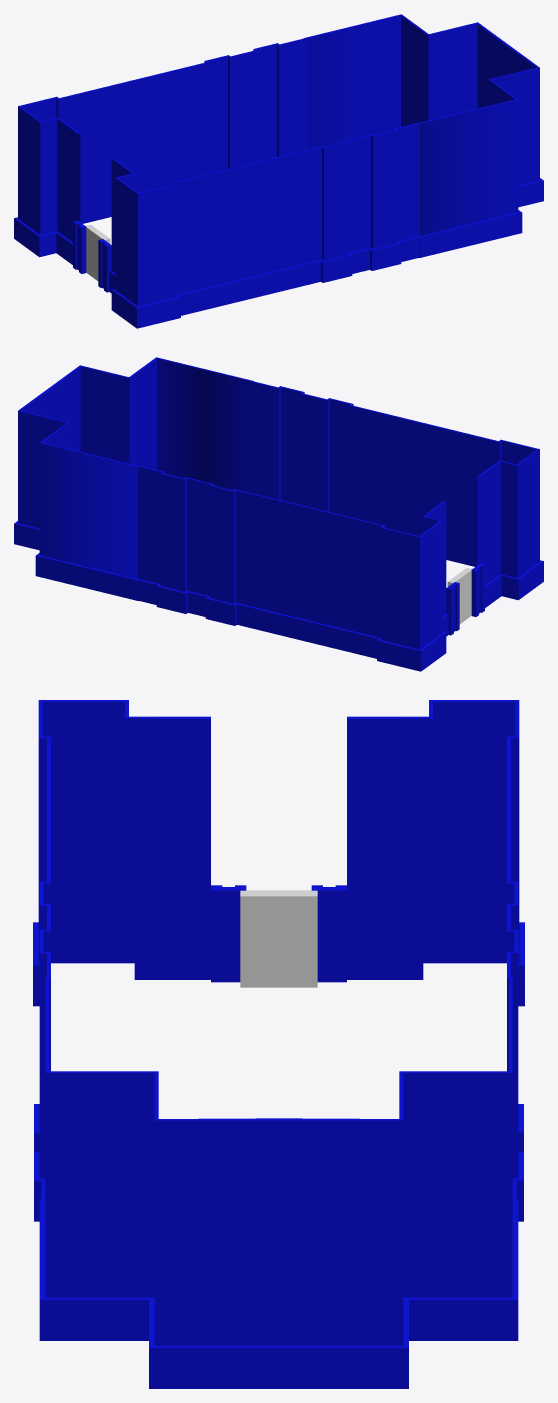
Rendered from churchEx_collisionSetup.fbx.
3 renders of one model, top to bottom at view 1: azimuth 30°, elevation 25°; view 2: azimuth 150°, elevation 25°; view 3: azimuth 270°, elevation 25°, orthographic. The views are drawn at different scales.
Visible parts, largest first — view 1: collisionCube.204, collisionCube.213, collisionCube.187, collisionCube.196, collisionCube.186, collisionCube.202, collisionCube.172, collisionCube.219, collisionCube.216, collisionCube.193, collisionCube.210, collisionCube.206 (+26 smaller); view 2: collisionCube.213, collisionCube.204, collisionCube.196, collisionCube.187, collisionCube.212, collisionCube.193, collisionCube.226, collisionCube.211, collisionCube.207, collisionCube.202, collisionCube.218, collisionCube.215 (+26 smaller); view 3: collisionCube.209, collisionCube.208, collisionCube.217, collisionCube.167, collisionCube.195, collisionCube.189, collisionCube.198, collisionCube.179, collisionCube.238, collisionCube.178, collisionCube.220, collisionCube.180 (+9 smaller).
Part boxes in pixels (bbox=[...]): collisionCube.204: bbox=[173, 146, 322, 294]; collisionCube.213: bbox=[58, 62, 208, 206]; collisionCube.187: bbox=[420, 99, 518, 235]; collisionCube.196: bbox=[303, 14, 401, 149]; collisionCube.186: bbox=[138, 184, 177, 306]; collisionCube.202: bbox=[428, 22, 477, 120]; collisionCube.172: bbox=[177, 259, 321, 315]; collisionCube.219: bbox=[279, 38, 306, 156]; collisionCube.216: bbox=[230, 50, 257, 168]; collisionCube.193: bbox=[489, 67, 539, 185]; collisionCube.210: bbox=[373, 130, 397, 248]; collisionCube.206: bbox=[324, 142, 348, 260]; collisionCube.213: bbox=[235, 489, 384, 637]; collisionCube.204: bbox=[349, 405, 499, 549]; collisionCube.196: bbox=[39, 442, 137, 578]; collisionCube.187: bbox=[156, 357, 254, 492]; collisionCube.212: bbox=[380, 527, 419, 649]; collisionCube.193: bbox=[80, 365, 129, 463]; collisionCube.226: bbox=[236, 602, 380, 658]; collisionCube.211: bbox=[251, 381, 278, 499]; collisionCube.207: bbox=[300, 393, 327, 511]; collisionCube.202: bbox=[18, 410, 68, 528]; collisionCube.218: bbox=[160, 473, 184, 591]; collisionCube.215: bbox=[209, 485, 233, 603]; collisionCube.209: bbox=[154, 1118, 403, 1345]; collisionCube.208: bbox=[45, 1071, 157, 1297]; collisionCube.217: bbox=[400, 1071, 512, 1297]; collisionCube.167: bbox=[125, 716, 210, 943]; collisionCube.195: bbox=[347, 716, 432, 943]; collisionCube.189: bbox=[39, 700, 128, 926]; collisionCube.198: bbox=[429, 700, 518, 926]; collisionCube.179: bbox=[149, 1345, 408, 1388]; collisionCube.238: bbox=[240, 890, 317, 987]; collisionCube.178: bbox=[39, 1297, 153, 1340]; collisionCube.220: bbox=[404, 1297, 518, 1340]; collisionCube.180: bbox=[33, 922, 134, 963].
Size of the model in its own units: 4450 by 1296 by 2175.
